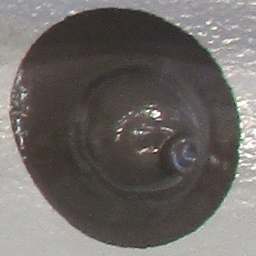perfect: (9, 6, 246, 250)
